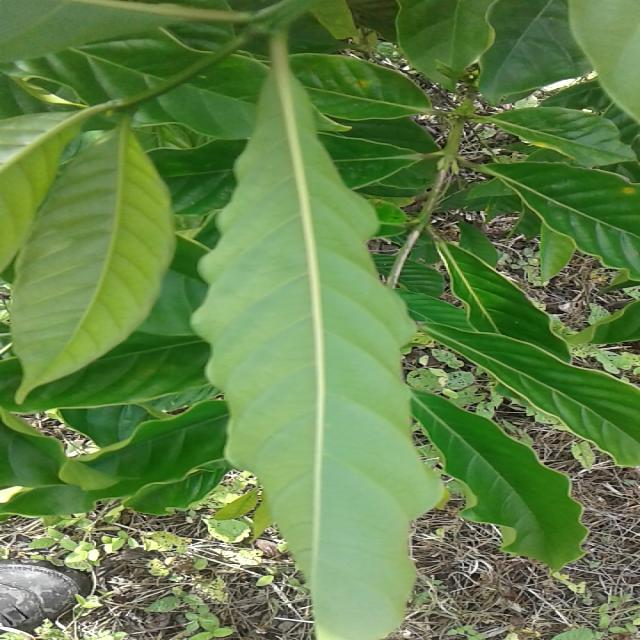Sanas: (180, 35, 444, 640)
